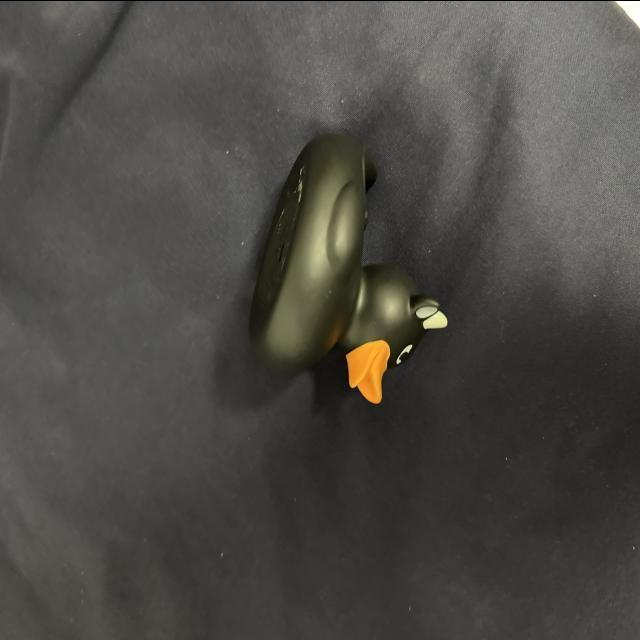rubber-duck: (249, 133, 445, 401)
